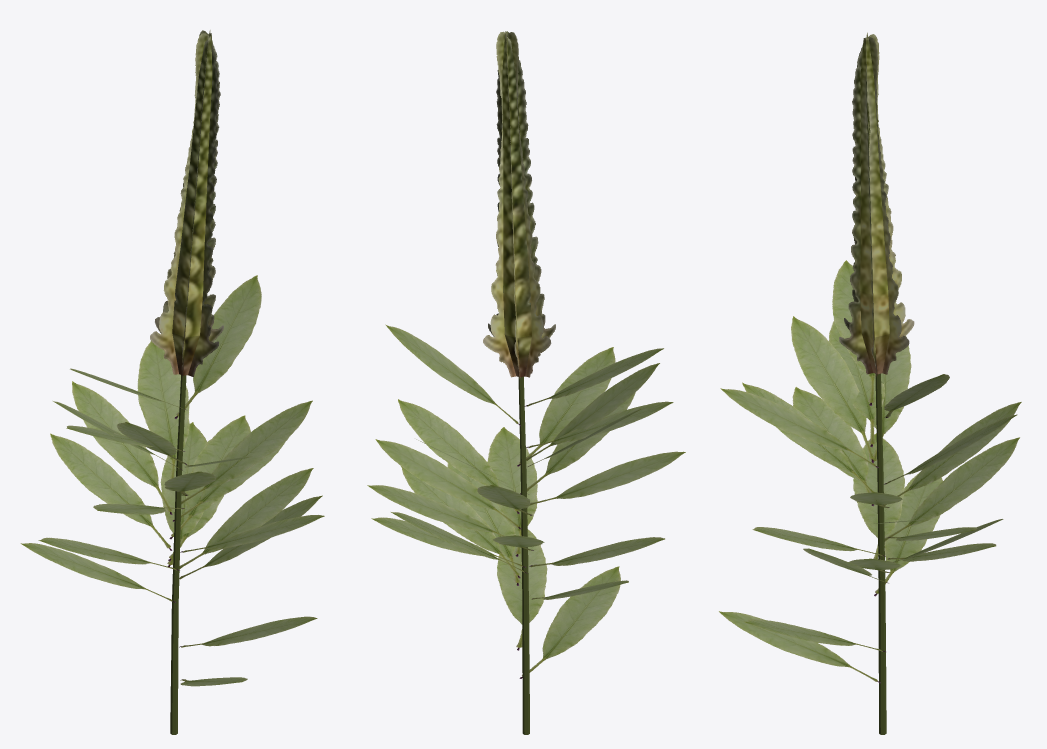
File: category_mesh_flower_3.glb
3 renders of one model, left to right at view 1: azimuth 30°, elevation 25°; view 2: azimuth 150°, elevation 25°; view 3: azimuth 270°, elevation 25°, orthographic. The views are drawn at different scales.
Visible parts, largest first — view 1: category_mesh_flower_3; view 2: category_mesh_flower_3; view 3: category_mesh_flower_3.
Part boxes in pixels (x1,y1,x2,y2): category_mesh_flower_3: (20, 30, 324, 734); category_mesh_flower_3: (367, 31, 685, 734); category_mesh_flower_3: (719, 32, 1021, 734).
Bounding box in the file's own units: 0.2858 × 0.6824 × 0.2746.
Materials: 1 (1 with a texture image).
